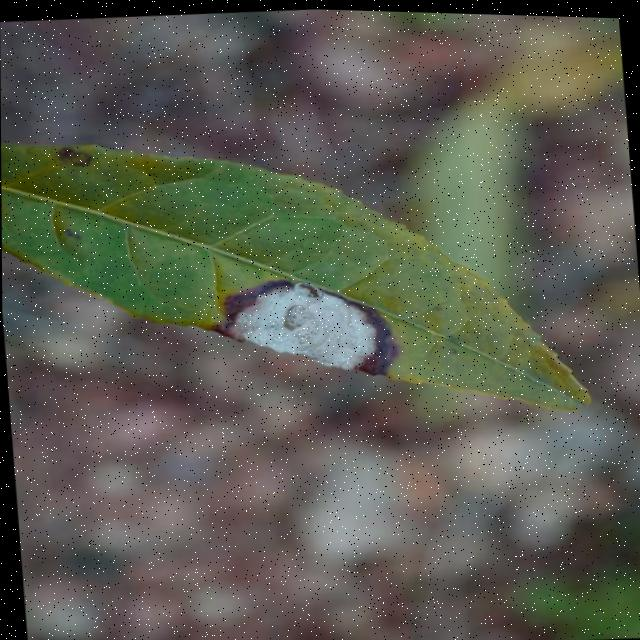Tea cloud leaf blight: (210, 264, 400, 387)
